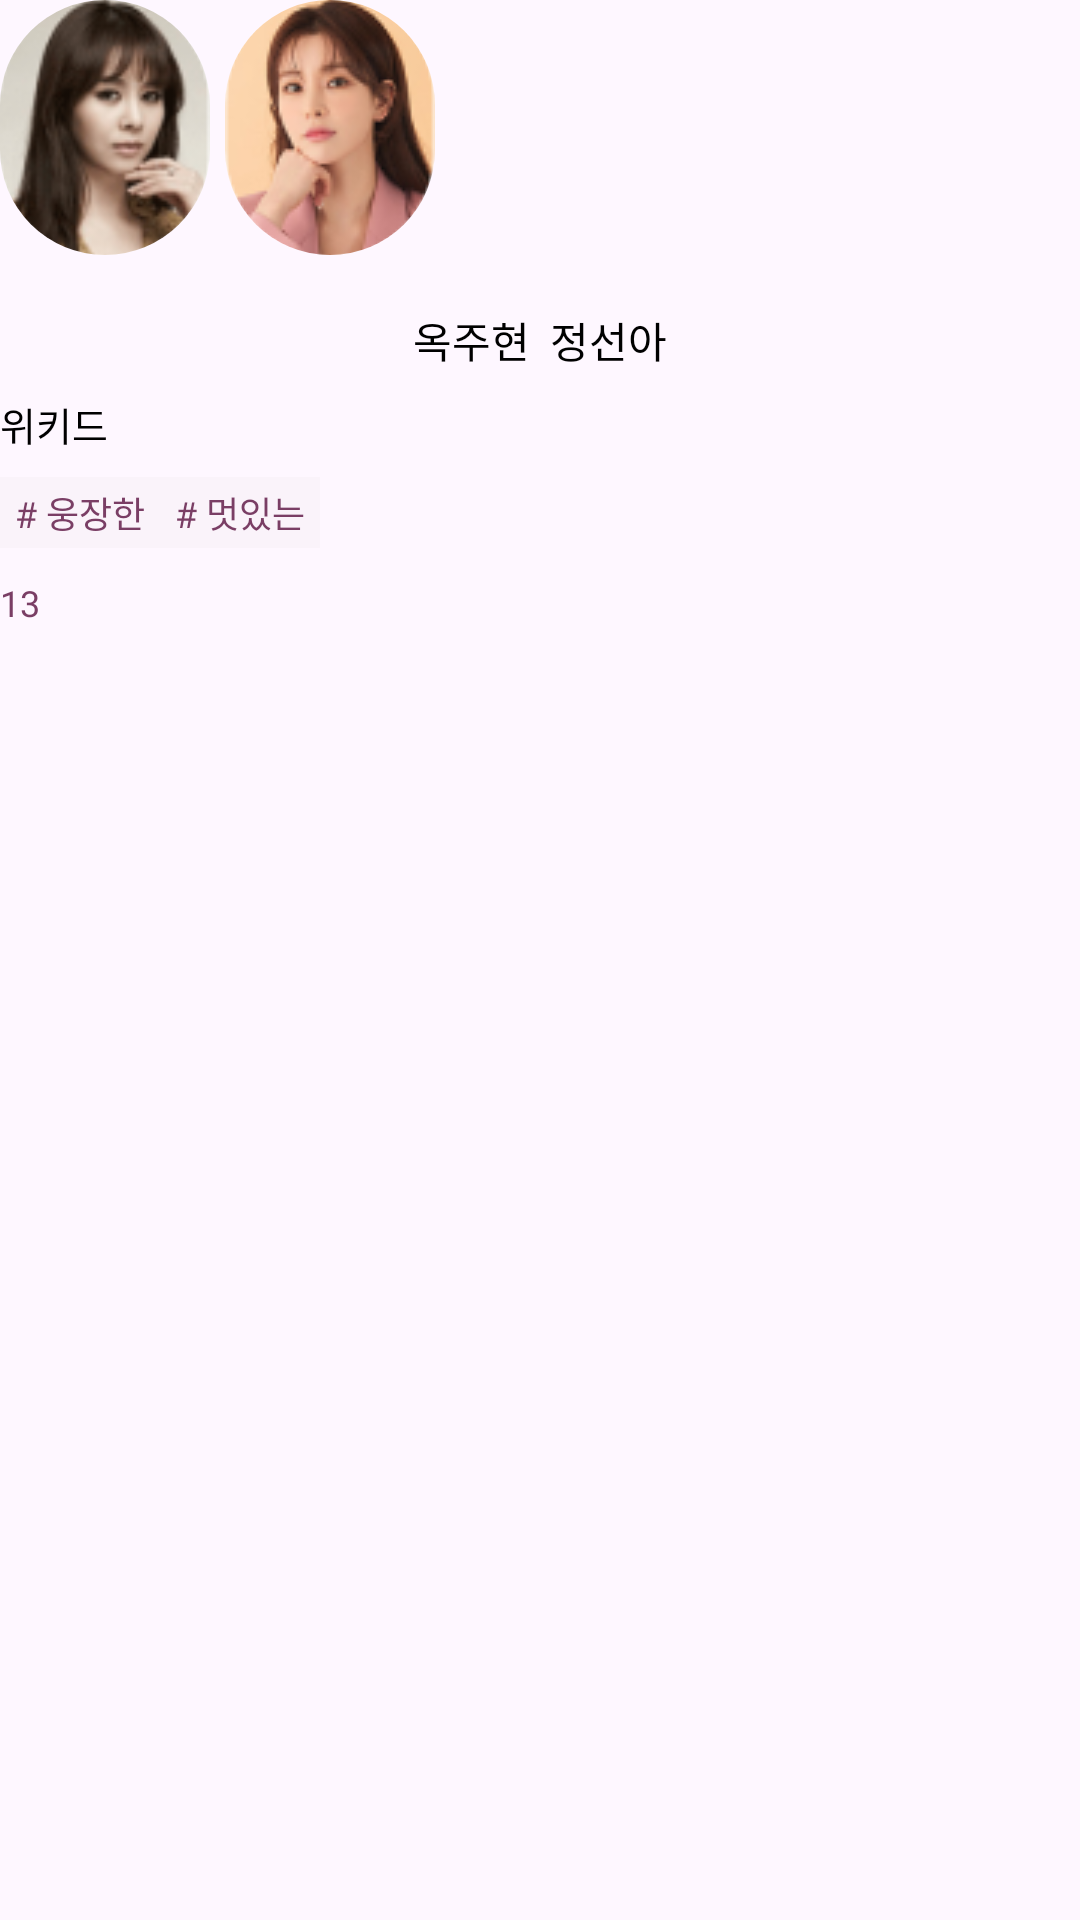

Icon bounding boxes for this 1080*1920 phone screenshot, format (x1, y1, x2, y2):
actor: (0, 0, 210, 255), (225, 0, 435, 255)
